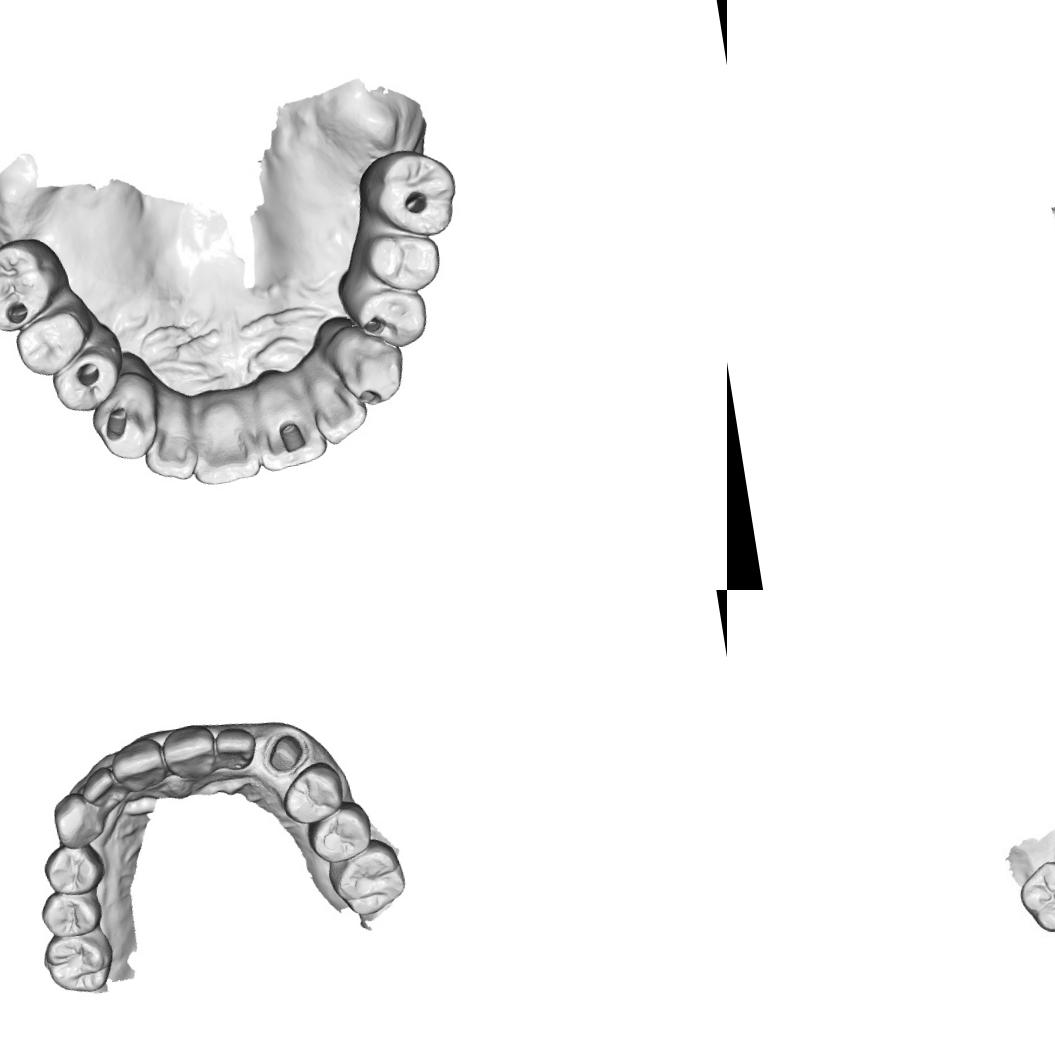canine: (328, 312, 411, 412), (84, 368, 166, 466), (48, 787, 109, 852)
crown: (258, 726, 312, 778)
incisor: (248, 402, 333, 477), (184, 414, 266, 490), (138, 414, 202, 486), (310, 378, 373, 450), (106, 734, 171, 796), (160, 720, 219, 784), (77, 762, 127, 812), (212, 722, 260, 774)
molar: (356, 143, 465, 246), (322, 832, 410, 920), (0, 236, 68, 337), (41, 922, 119, 1000), (302, 796, 376, 866), (1014, 854, 1055, 933)
premolar: (353, 222, 448, 300), (346, 274, 432, 358), (9, 305, 96, 382), (48, 344, 126, 417), (276, 758, 348, 828), (40, 838, 108, 900), (36, 884, 107, 941)
